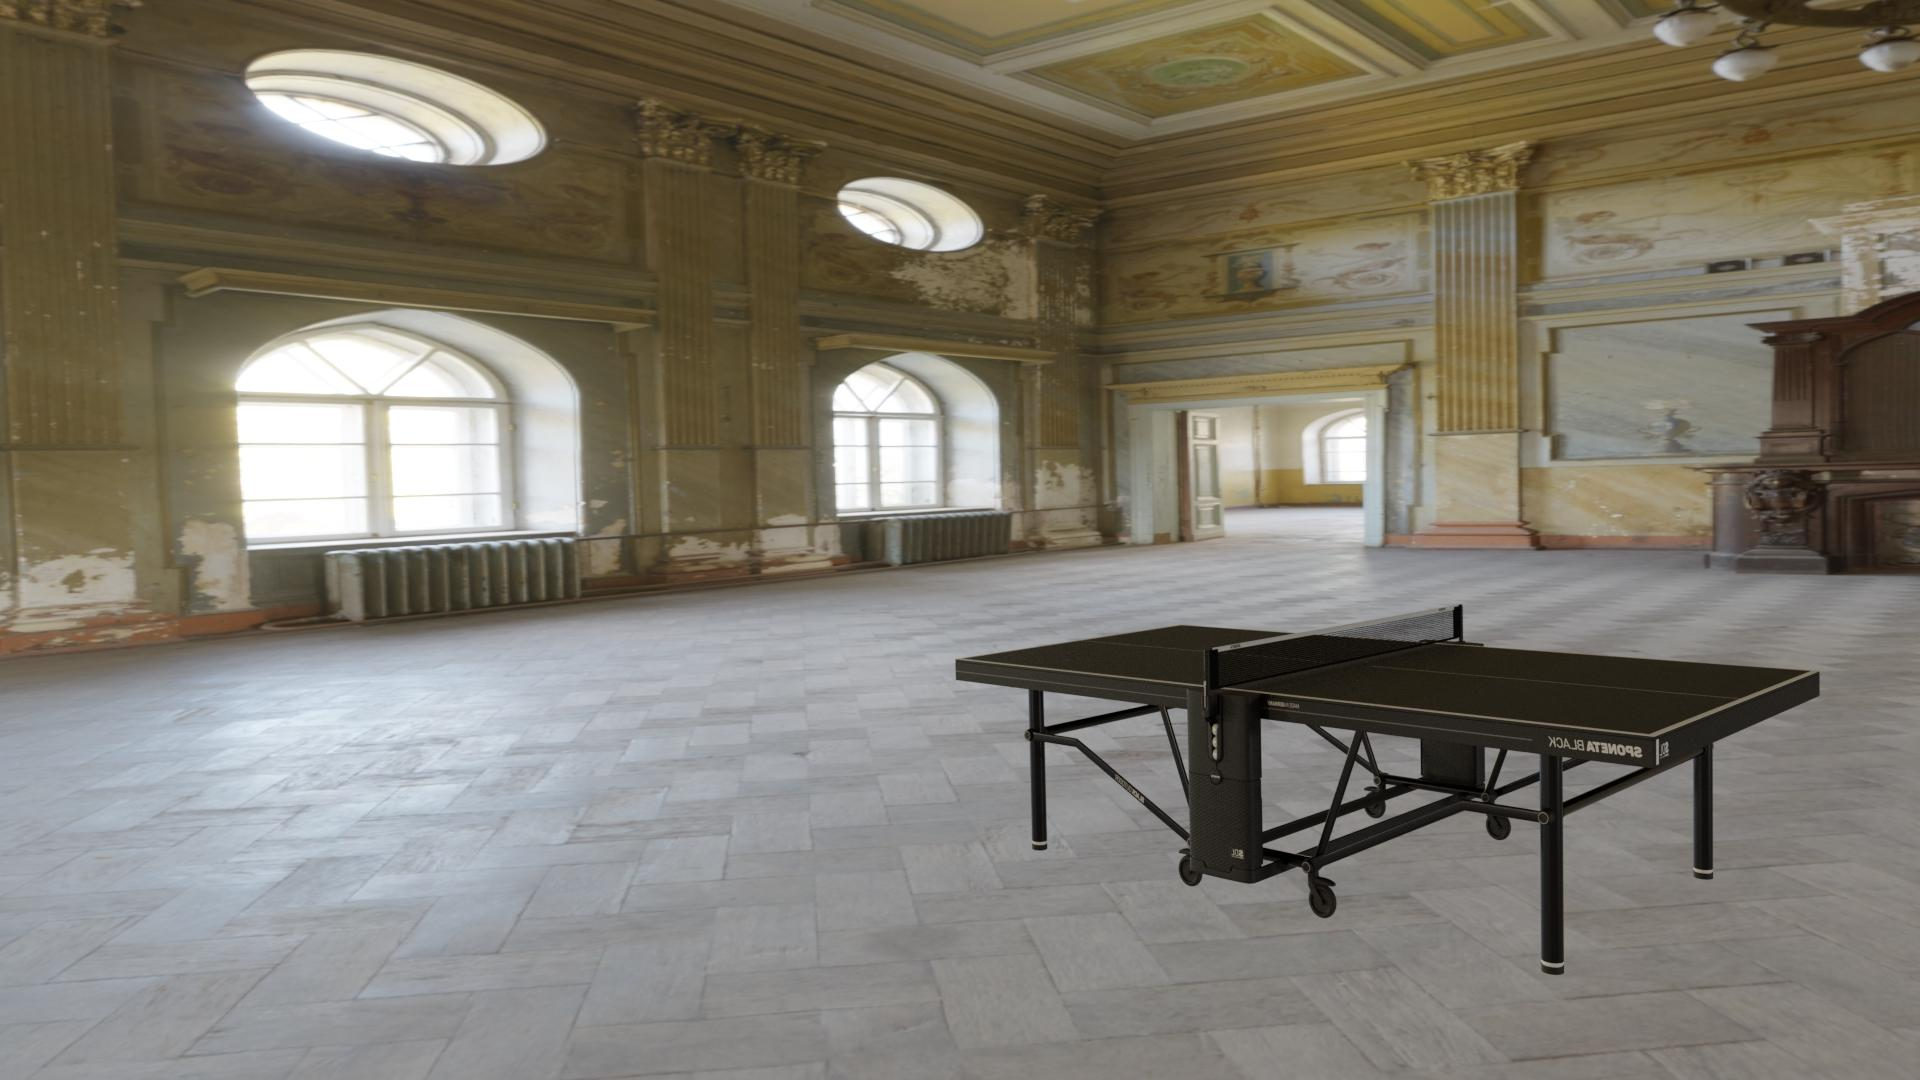table: (961, 625, 1812, 735)
